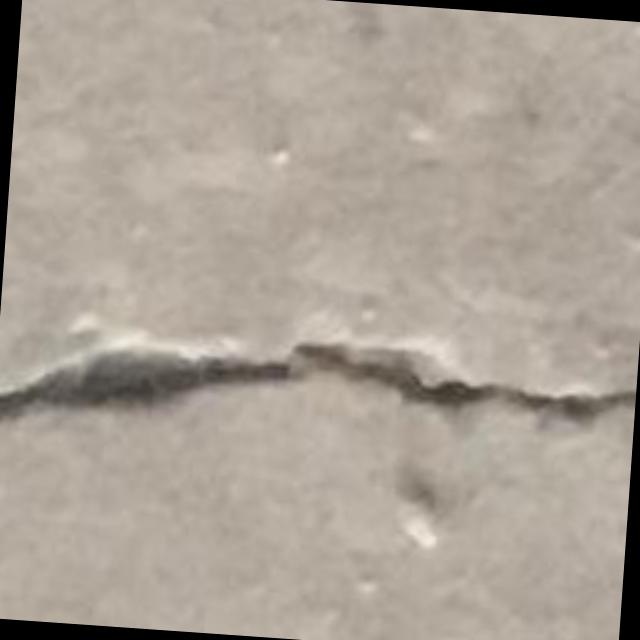crack: (0, 345, 627, 423)
